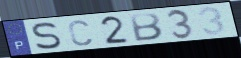2: (98, 14, 131, 47)
3: (197, 5, 228, 37), (166, 7, 195, 41)
B: (129, 12, 165, 43)
C: (67, 19, 95, 47)
S: (31, 21, 63, 50)
